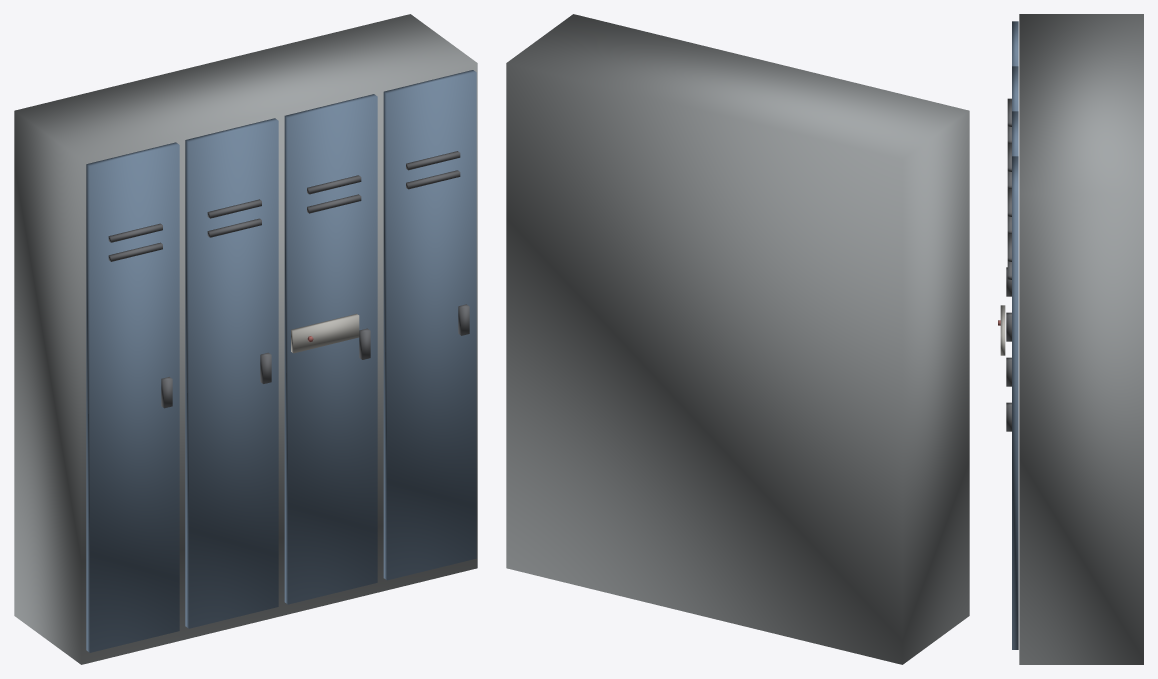
The model's file is property_locker_bank__compact.glb.
The picture shows the model from 3 angles, left to right: view 1: azimuth 30°, elevation 25°; view 2: azimuth 150°, elevation 25°; view 3: azimuth 270°, elevation 25°; orthographic projection. The views are drawn at different scales.
Visible parts, largest first — view 1: world; view 2: world; view 3: world.
Part boxes in pixels (x1,y1,x2,y2): world: [14, 14, 477, 664]; world: [506, 14, 969, 664]; world: [998, 14, 1143, 664].
Bounding box in the file's own units: 1.41 × 1.72 × 0.4825.
